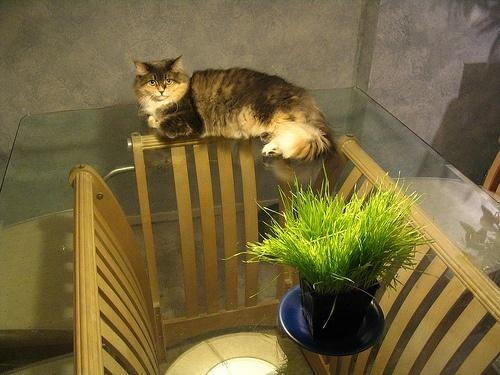cat: (132, 57, 331, 159)
pottedplant: (248, 177, 435, 340)
